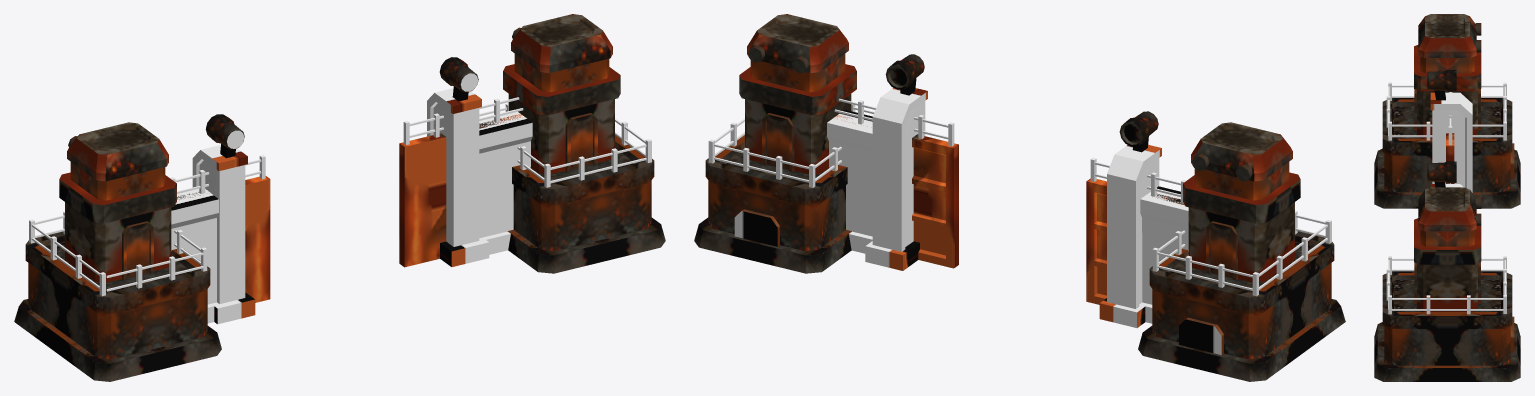
File: chengqiang_01.FBX
3 views of the same model, side by side, from view 1: azimuth 30°, elevation 25°; view 2: azimuth 150°, elevation 25°; view 3: azimuth 270°, elevation 25° (orthographic). The views are drawn at different scales.
Parts seen in each view (by area): view 1: chengqiang_01; view 2: chengqiang_01; view 3: chengqiang_01.
Boxes of the visible parts, box(x1,y1,x2,y2) form: chengqiang_01: box(14, 14, 665, 381); chengqiang_01: box(694, 14, 1345, 381); chengqiang_01: box(1374, 14, 1520, 381).
Size of the model in its own units: 2873 by 794 by 946.
